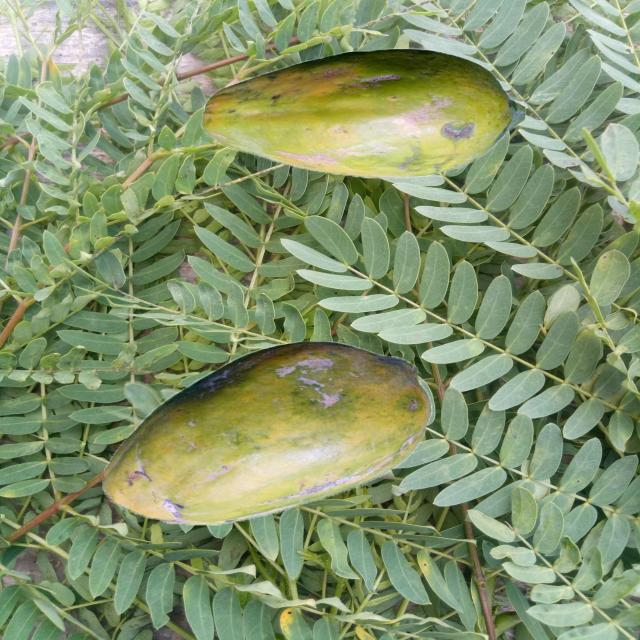Pepaya rippen: (109, 340, 445, 542), (192, 54, 522, 185)
